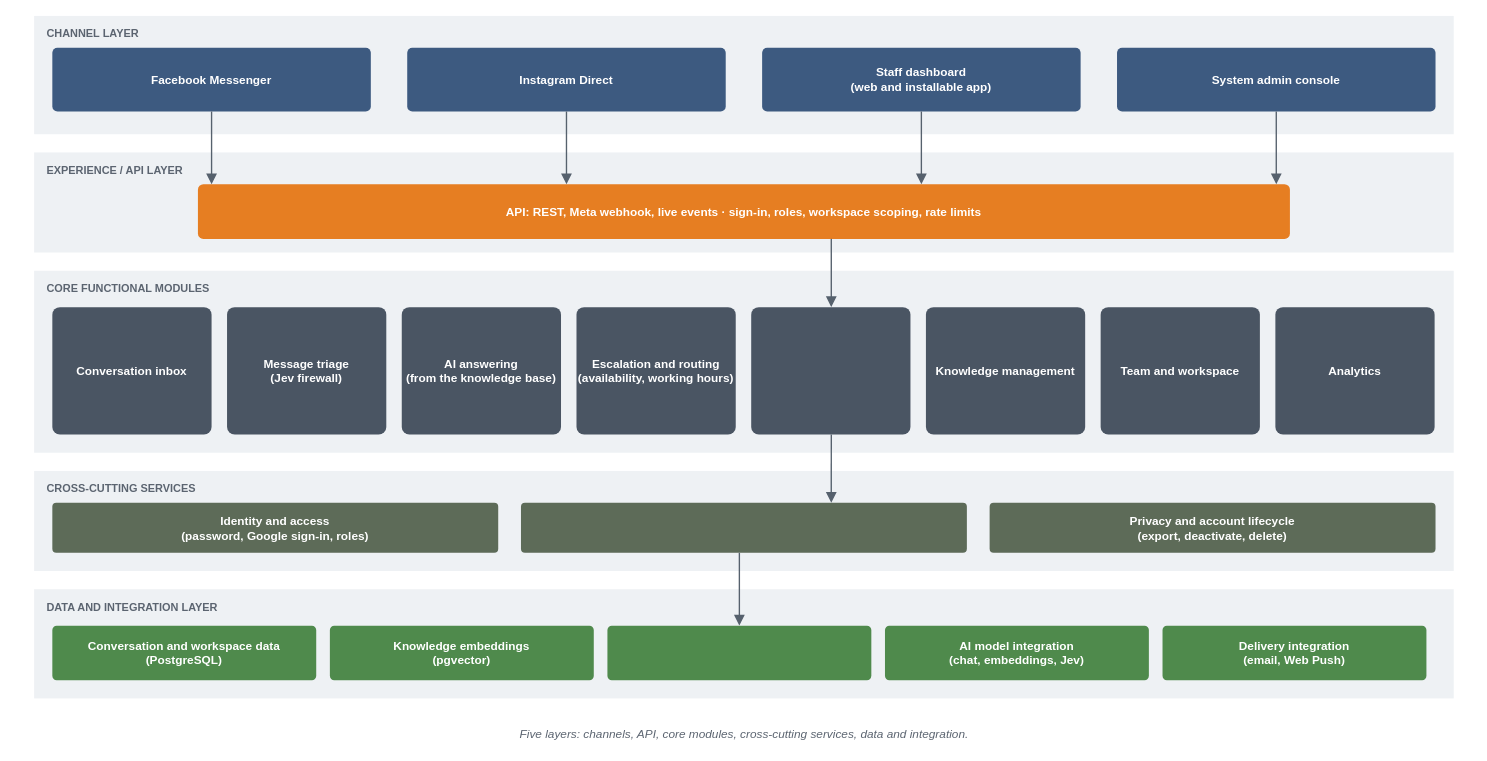
This 1487x761 diagram has some shape labels left out. The shapes that lost their labels are listed below. From the top down, each one's centre as x and y in pixels, then its label:
the point at 830,370: Notifications (push, email, bell)
the point at 743,527: AI trace and audit (every step recorded)
the point at 739,652: Meta integration (Graph API)
